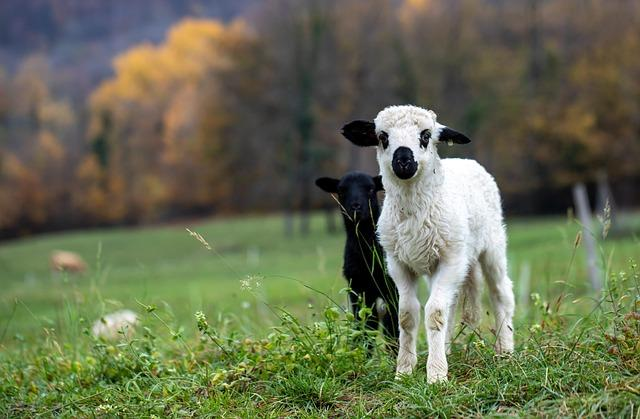Non_Gorille: (303, 70, 565, 397)
